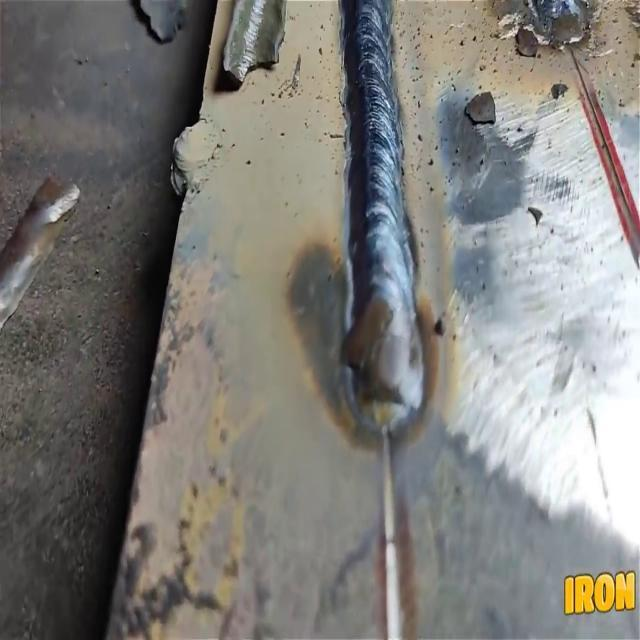Good Weld: (322, 0, 418, 304)
